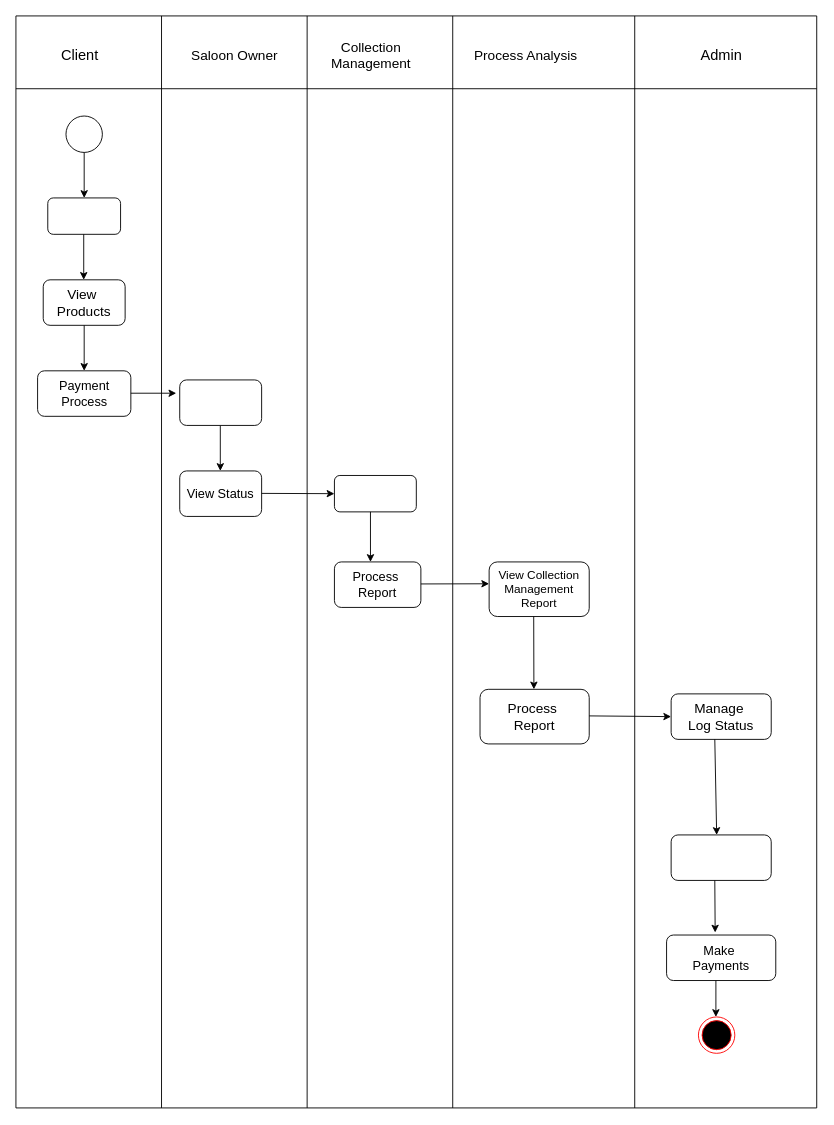
The diagram is 834 pixels wide and 1125 high, and some of its shapes have lost their labels. The centre of each missing label's shape, as x and y in pixels:
"Approve reports" goes at (720,857).
"Login" goes at (84,215).
"Upload DataSet" goes at (220,402).
"View Saloon Dataset" goes at (375,493).
